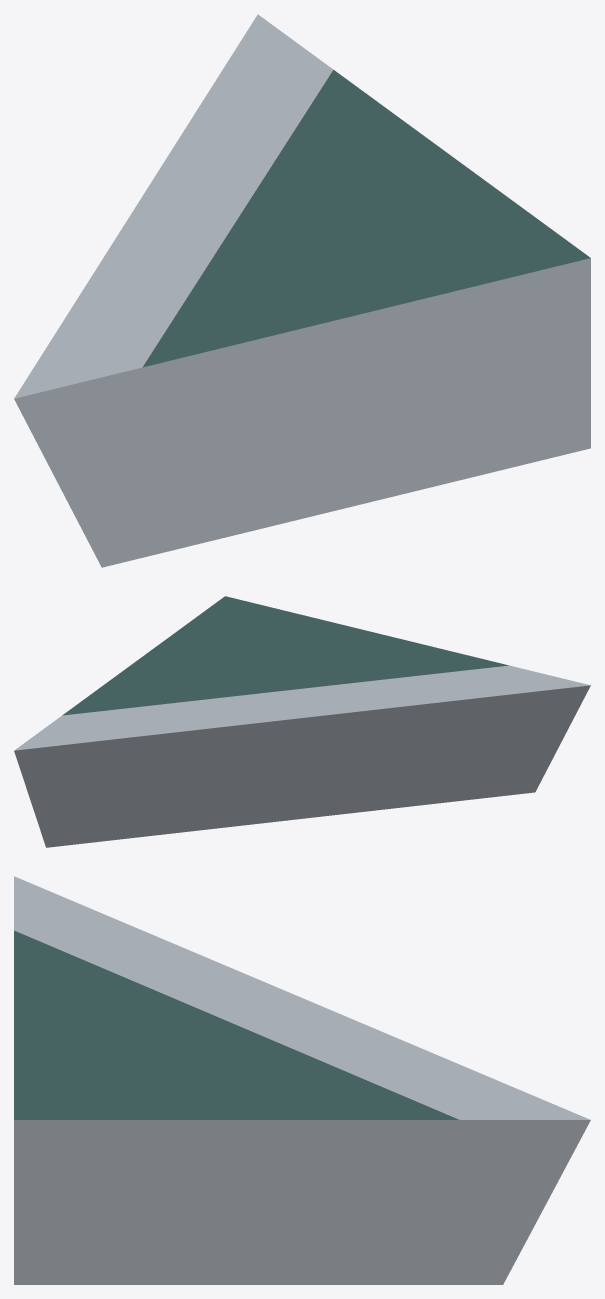
The model's file is Grey_Cliff_Top_Corner_01.fbx.
3 views of the same model, one above another, from view 1: azimuth 30°, elevation 25°; view 2: azimuth 150°, elevation 25°; view 3: azimuth 270°, elevation 25° (orthographic). The views are drawn at different scales.
Visible parts, largest first — view 1: Mesh1_Grey_Cliff_Top_Corner Model; view 2: Mesh1_Grey_Cliff_Top_Corner Model; view 3: Mesh1_Grey_Cliff_Top_Corner Model.
Boxes of the visible parts, <box> form: Mesh1_Grey_Cliff_Top_Corner Model: <box>14,14,590,567</box>; Mesh1_Grey_Cliff_Top_Corner Model: <box>14,596,590,847</box>; Mesh1_Grey_Cliff_Top_Corner Model: <box>14,876,590,1284</box>.
Size of the model in its own units: 0.92 by 0.29 by 0.92.
